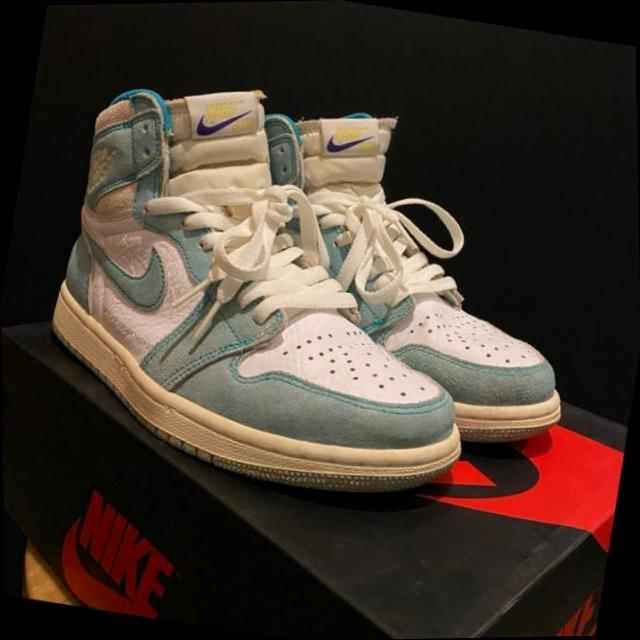nike_original_jordan: (22, 57, 518, 518), (189, 80, 612, 452)
